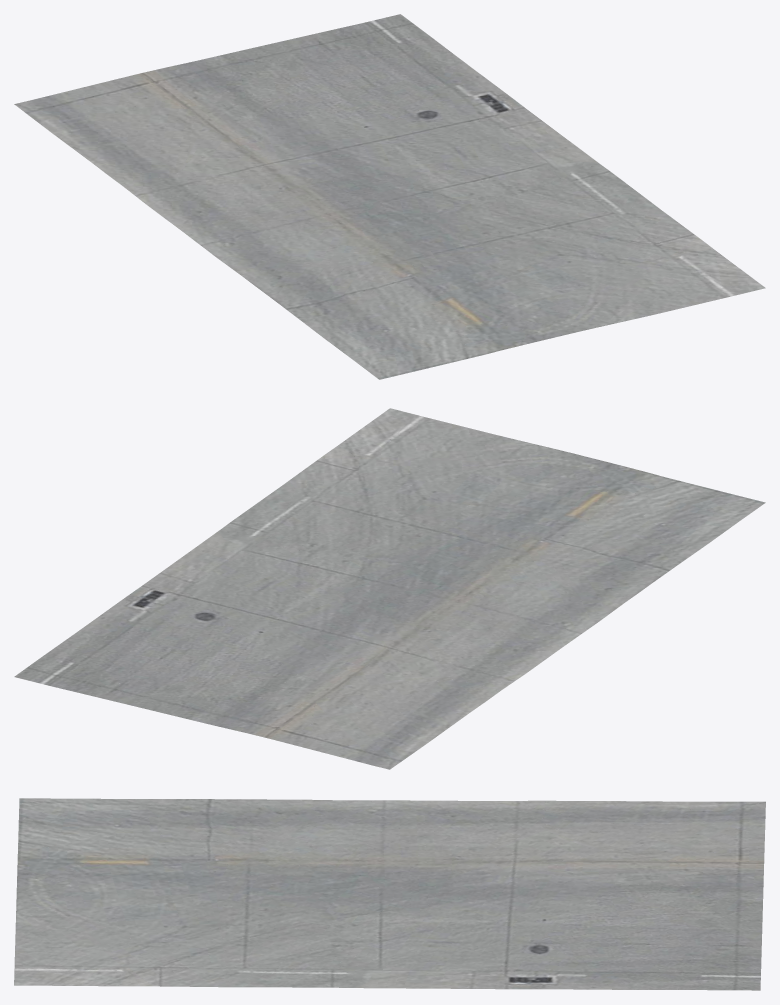
File: Tile_+006_+010_L21_0uuuu320.glb
3 renders of one model, top to bottom at view 1: azimuth 30°, elevation 25°; view 2: azimuth 150°, elevation 25°; view 3: azimuth 270°, elevation 25°, orthographic.
Visible parts, largest first — view 1: rtc; view 2: rtc; view 3: rtc.
Boxes of the visible parts, x1,y1,x2,y2 form: rtc: (14, 14, 765, 379); rtc: (14, 408, 765, 769); rtc: (14, 798, 765, 990).
Size of the model in its own units: 15.72 by 0.1108 by 26.14.
1 material, 1 textured.
